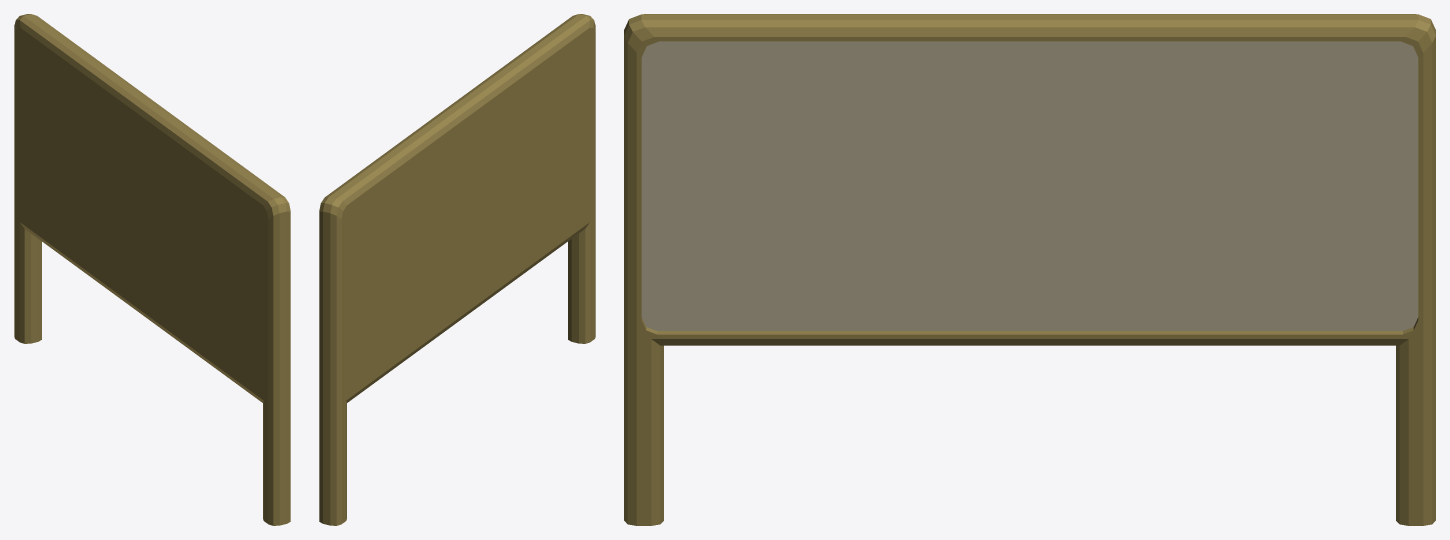
File: CartelGrande.glb
The picture shows the model from 3 angles, left to right: view 1: azimuth 30°, elevation 25°; view 2: azimuth 150°, elevation 25°; view 3: azimuth 270°, elevation 25°; orthographic projection. The views are drawn at different scales.
Visible parts, largest first — view 1: Cube.001; view 2: Cube.001; view 3: Cube.001.
Part boxes in pixels (bbox=[...]): Cube.001: bbox=[14, 14, 290, 525]; Cube.001: bbox=[319, 14, 595, 525]; Cube.001: bbox=[624, 14, 1435, 525].
Size of the model in its own units: 0.2157 by 3.08 by 4.53.
